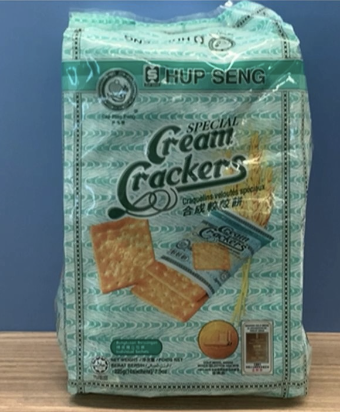crackers_150g: (73, 58, 295, 385)
